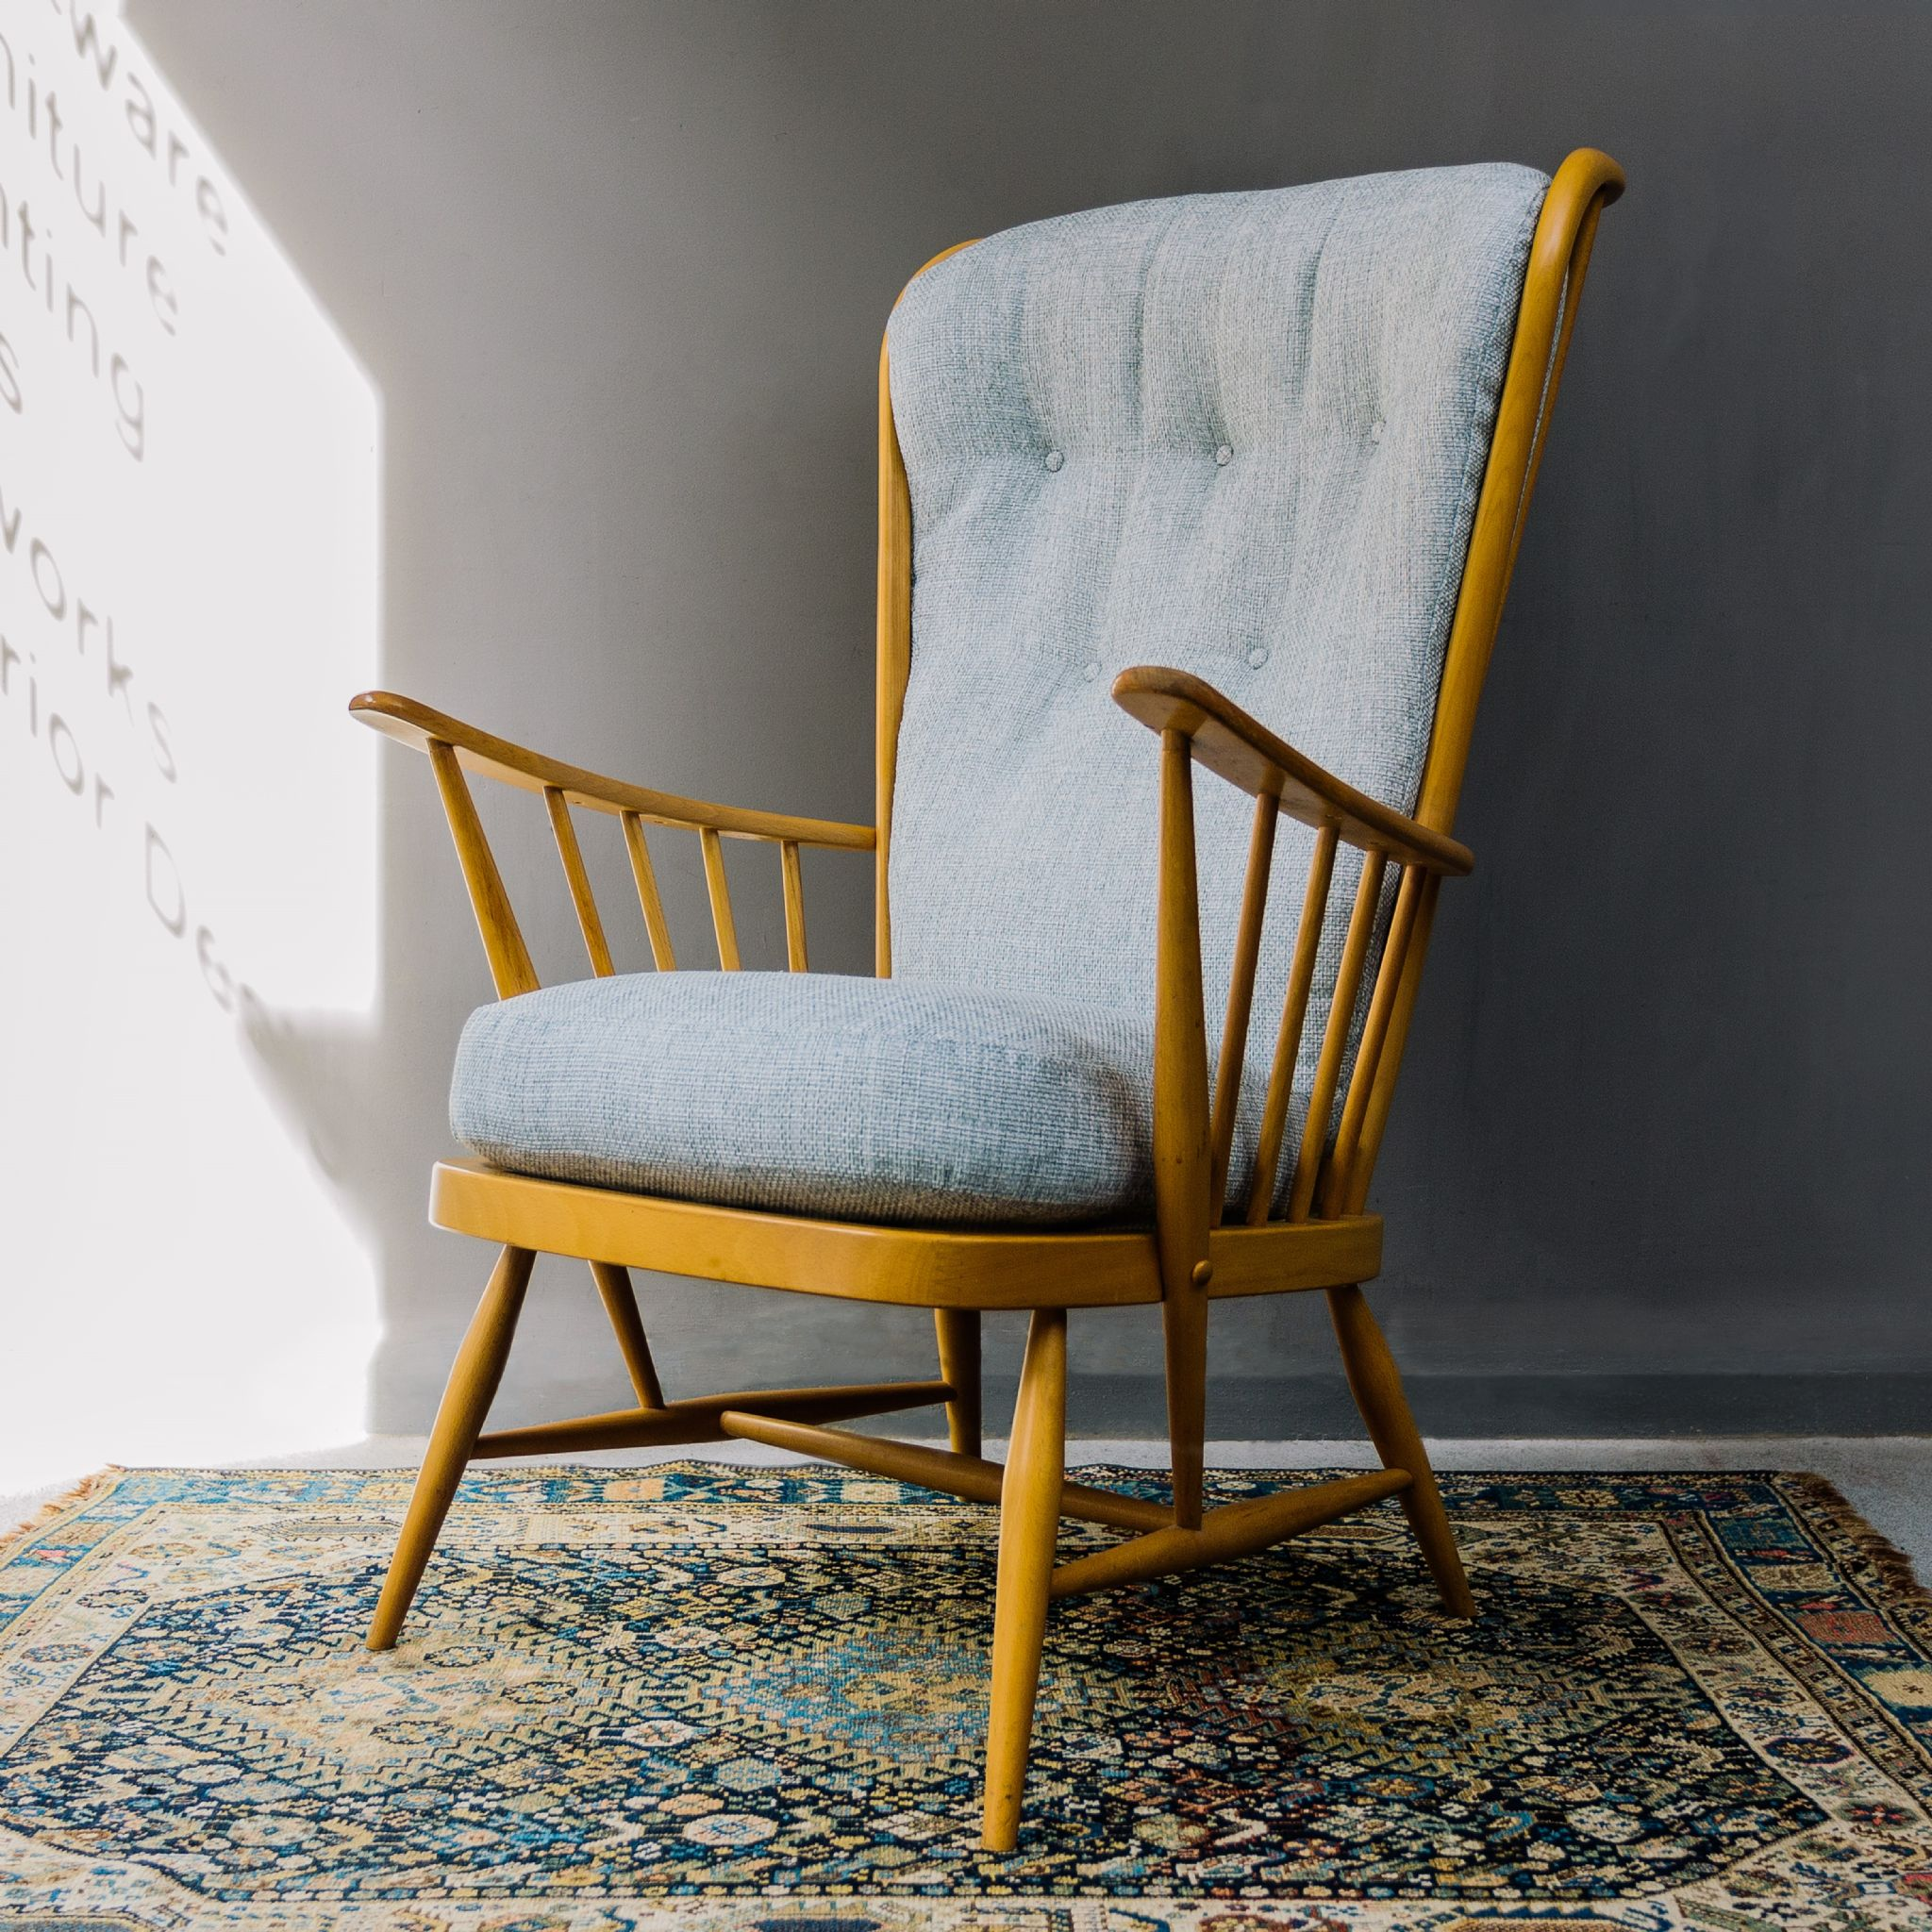chairs: (313, 149, 1631, 1859)
